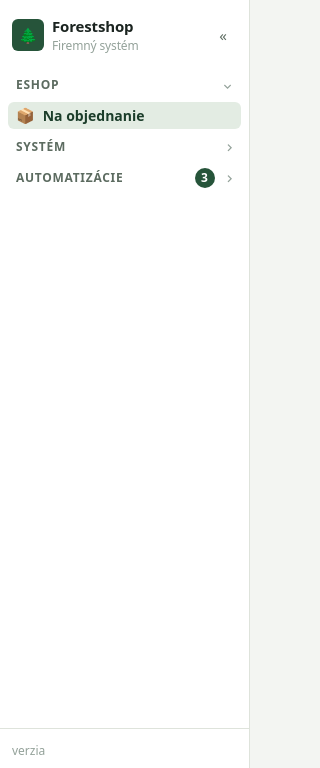
rozbalenie priečinka schová súhrnný odznak z hlavičky (originály vnútri ostávajú)
The image size is (320, 768).
Check: the text "3" is shown, box [195,168,215,188]
Click the button "Automatizácie 3 ⌄".
click(124, 178)  # box [8,164,241,192]
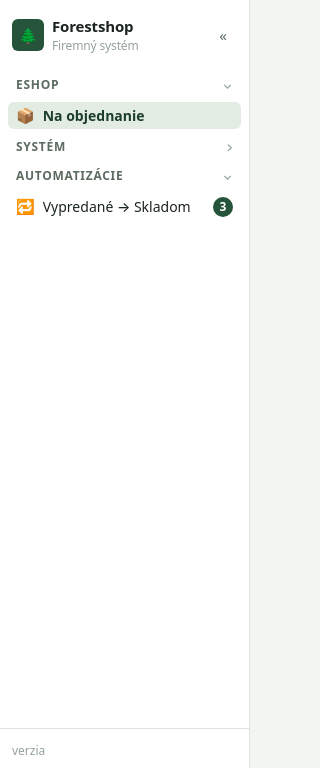
Check: the text with test id "nav-badge-restock" reads "3", box [220,198,226,215]
Check: the text with test id "folder-badge-automations" is gone
